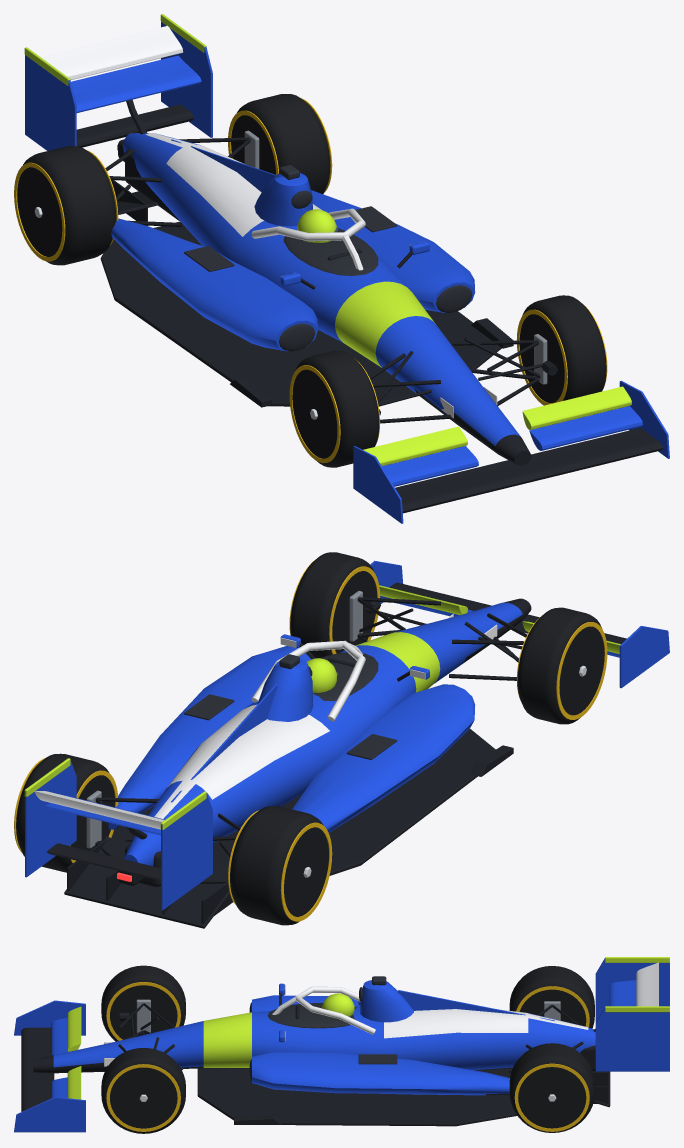
Rendered from cars.glb.
3 views of the same model, one above another, from view 1: azimuth 30°, elevation 25°; view 2: azimuth 150°, elevation 25°; view 3: azimuth 270°, elevation 25° (orthographic). The views are drawn at different scales.
Parts seen in each view (by area): view 1: car_halvard_07_body, car_halvard_07_wheel_rr, car_halvard_07_wheel_fr, car_halvard_07_wheel_fl, car_halvard_07_wheel_rl, car_halvard_07_drs_flap; view 2: car_halvard_07_body, car_halvard_07_wheel_rr, car_halvard_07_wheel_fr, car_halvard_07_wheel_fl, car_halvard_07_wheel_rl, car_halvard_07_drs_flap; view 3: car_halvard_07_body, car_halvard_07_wheel_rl, car_halvard_07_wheel_fl, car_halvard_07_wheel_fr, car_halvard_07_wheel_rr, car_halvard_07_drs_flap.
Part boxes in pixels (x1,y1,x2,y2): car_halvard_07_body: (24,14,669,523); car_halvard_07_wheel_rr: (14,146,118,265); car_halvard_07_wheel_fr: (289,351,380,467); car_halvard_07_wheel_fl: (516,295,607,405); car_halvard_07_wheel_rl: (228,94,332,193); car_halvard_07_drs_flap: (40,25,183,79); car_halvard_07_body: (24,560,669,928); car_halvard_07_wheel_rr: (228,806,332,925); car_halvard_07_wheel_fr: (516,607,607,724); car_halvard_07_wheel_fl: (289,552,380,658); car_halvard_07_wheel_rl: (14,753,118,872); car_halvard_07_drs_flap: (34,791,164,829); car_halvard_07_body: (14,957,669,1132); car_halvard_07_wheel_rl: (509,1043,594,1132); car_halvard_07_wheel_fl: (101,1048,185,1133); car_halvard_07_wheel_fr: (101,965,185,1041); car_halvard_07_wheel_rr: (509,966,594,1028); car_halvard_07_drs_flap: (636,962,658,1006).
Size of the model in its own units: 1.94 by 1.01 by 5.46.
